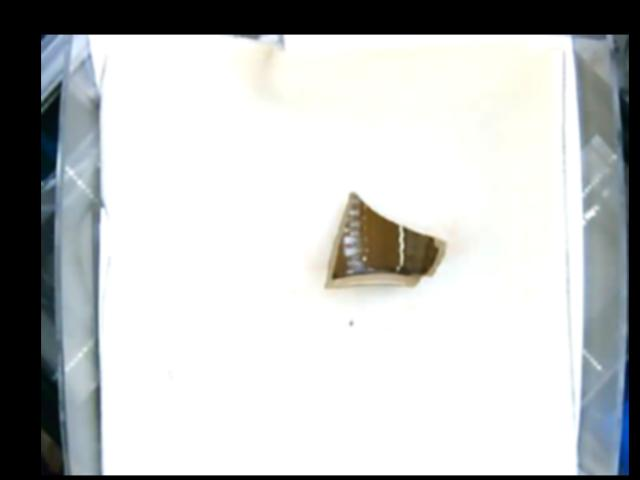China: (324, 192, 447, 293)
